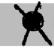not correct: (13, 1, 53, 49)
